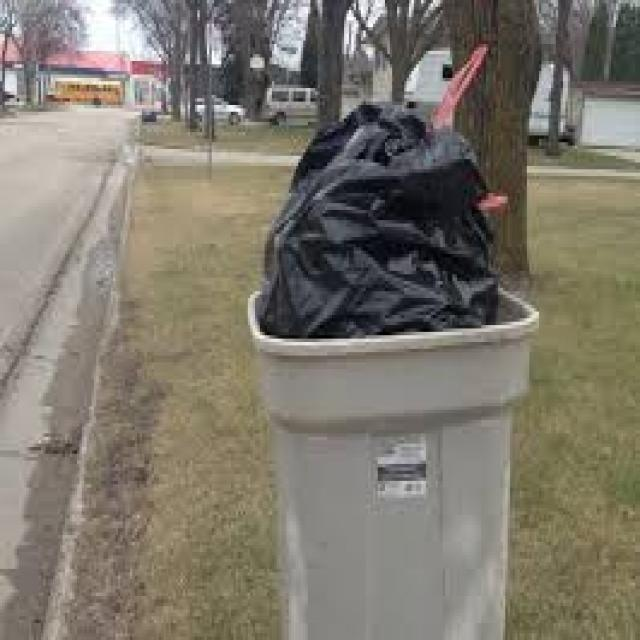plastic_bag: (271, 89, 509, 340)
